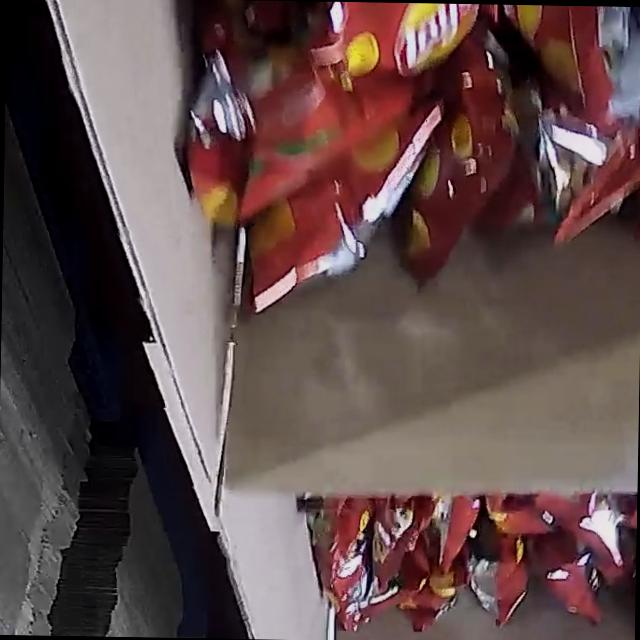masala: (132, 0, 640, 310), (300, 481, 637, 640)
